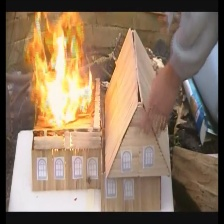fire: (24, 10, 98, 131)
